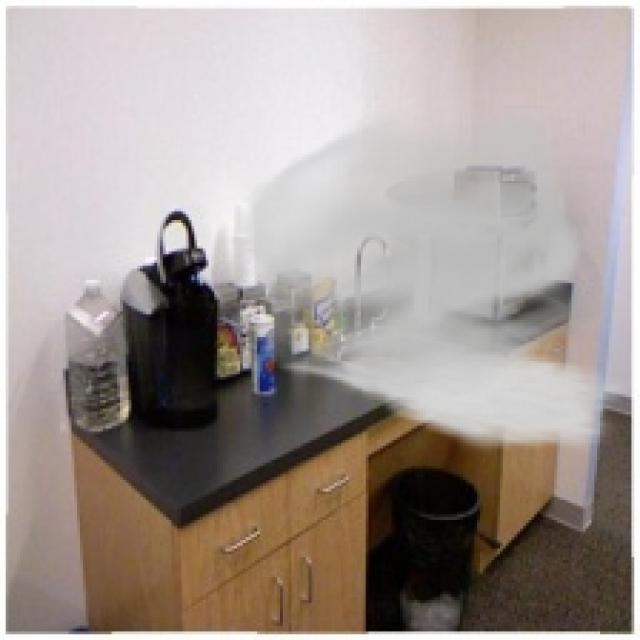Smoke: (222, 106, 628, 454)
